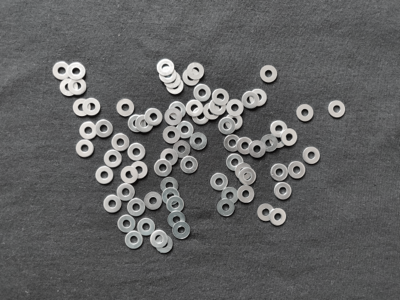circle: (258, 64, 280, 84), (302, 144, 321, 166), (328, 99, 348, 119), (67, 61, 86, 82), (287, 160, 307, 179), (270, 163, 290, 182), (255, 203, 275, 222), (168, 100, 187, 120), (116, 98, 136, 117), (144, 192, 164, 211), (295, 105, 316, 123), (241, 92, 260, 111), (217, 199, 236, 218), (160, 148, 179, 167), (162, 187, 181, 206), (117, 215, 136, 234), (103, 195, 122, 214), (117, 183, 136, 202), (281, 128, 299, 148), (192, 106, 210, 126), (164, 77, 184, 95), (162, 126, 182, 144), (167, 211, 187, 229), (144, 108, 164, 126), (79, 122, 99, 140), (76, 141, 96, 159), (60, 78, 78, 98), (274, 182, 292, 201), (269, 209, 288, 227), (270, 120, 288, 139), (261, 134, 279, 153), (250, 89, 269, 107), (226, 99, 245, 117), (237, 185, 255, 204), (222, 187, 240, 206), (226, 154, 245, 172), (211, 173, 229, 192), (190, 133, 209, 151), (173, 140, 192, 158), (154, 160, 173, 178), (160, 177, 179, 195), (151, 230, 169, 249), (125, 231, 143, 250), (127, 198, 146, 216), (130, 160, 148, 179), (128, 143, 146, 162), (103, 149, 121, 168), (96, 119, 114, 138), (52, 62, 70, 81), (157, 66, 177, 83), (128, 114, 145, 134), (171, 223, 192, 239), (224, 136, 242, 154), (209, 98, 227, 116), (156, 236, 174, 254), (95, 166, 113, 184), (112, 134, 130, 152), (83, 98, 101, 116), (73, 100, 91, 118), (237, 137, 254, 156), (183, 68, 200, 87), (176, 122, 195, 139), (166, 198, 185, 215), (137, 114, 154, 133), (137, 218, 156, 235), (68, 79, 87, 96), (270, 132, 287, 150), (250, 141, 267, 159), (226, 113, 244, 130), (219, 118, 236, 136), (203, 103, 221, 120), (194, 85, 212, 102), (188, 62, 205, 80), (165, 108, 182, 126), (181, 157, 199, 174), (121, 166, 139, 183), (156, 59, 175, 75), (186, 100, 203, 117), (240, 168, 257, 185), (212, 89, 230, 105), (164, 73, 182, 89), (235, 164, 252, 180)
